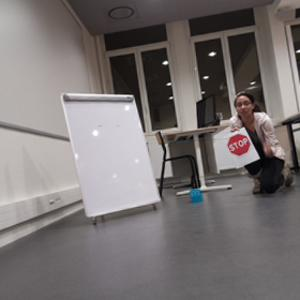stop: (228, 134, 250, 155)
